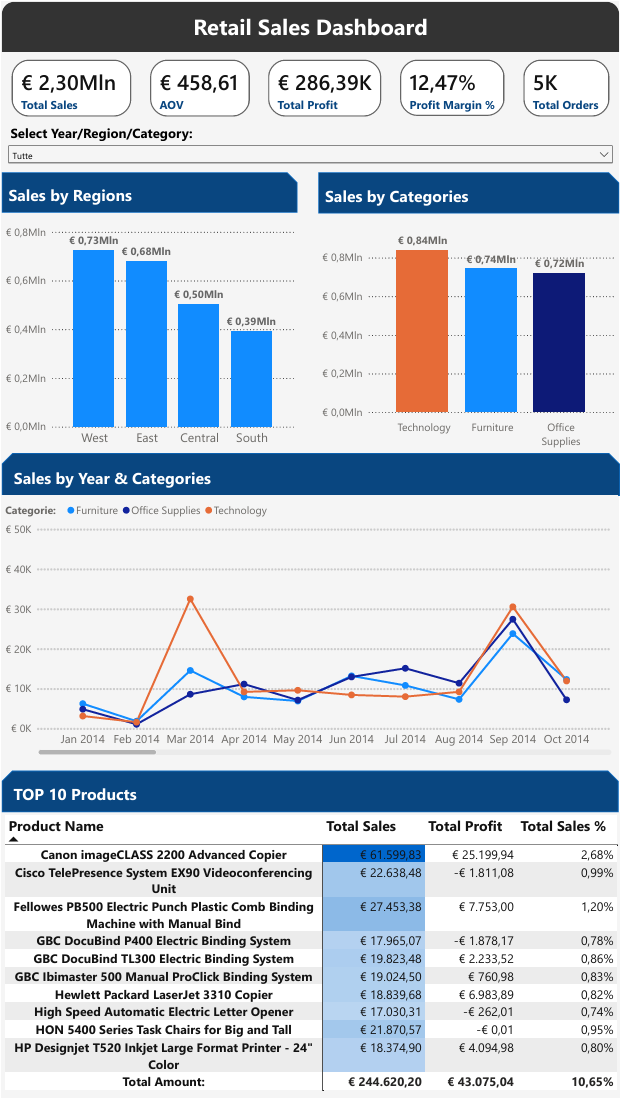

What the dashboard file says about the page in this screenshot:
{"tool":"powerbi","page":{"name":"Retail Sales Dashboard","canvas":[936,1664],"ordinal":0},"visuals":[{"type":"shape","box":[0,0,936,1664],"z":0},{"type":"shape","title":"Vendite per Anno & Categoria","box":[0,685,936.7,65],"z":1000},{"type":"pivotTable","title":"Vendite per Prodotto","fields":{"Rows":["Sales_Clean.product_name"],"Values":["Sales_Clean.Total Sales","Sales_Clean.Total Profit","Sales_Clean.PctOfTotalSales"]},"box":[0,1230,938.3,433.3],"z":2000},{"type":"lineChart","title":"Vendite per anno e categoria","fields":{"Series":["Sales_Clean.category"],"Y":["Sales_Clean.Total Sales"],"Category":["Sales_Clean.MonthYear"]},"box":[0,750,935,398.3],"z":3000},{"type":"columnChart","title":"Vendite per Categoria","fields":{"Category":["Sales_Clean.category"],"Y":["Sales_Clean.Total Sales"]},"box":[480,332.5,456.2,351.2],"z":4000},{"type":"shape","box":[0,1166.7,936,63.3],"z":5000},{"type":"columnChart","title":"Vendite per Regioni","fields":{"Category":["Sales_Clean.region_name"],"Y":["Sales_Clean.Total Sales"]},"box":[0,332.5,447.5,351.2],"z":6000},{"type":"shape","box":[0,258.8,447.5,61.2],"z":7000},{"type":"shape","box":[480,258.8,456.2,62.5],"z":8000},{"type":"cardVisual","fields":{"Data":["Sales_Clean.Total Sales"]},"box":[10,83,191.1,95.6],"z":9000,"group":"g1"},{"type":"slicer","title":"Filter","fields":{"Values":["Sales_Clean.year","Sales_Clean.region_name","Sales_Clean.category","Sales_Clean.segment"]},"box":[0,178.6,935.7,80],"z":12000},{"type":"shape","box":[0,0,936,75.7],"z":13000},{"type":"cardVisual","fields":{"Data":["Sales_Clean.AOV"]},"box":[219.6,83,161,96],"z":14000,"group":"g1"},{"type":"cardVisual","fields":{"Data":["Sales_Clean.Total Profit"]},"box":[399.1,83,181.1,95.6],"z":15000,"group":"g1"},{"type":"cardVisual","fields":{"Data":["Sales_Clean.Total Orders"]},"box":[785.6,83,140,95.6],"z":16000,"group":"g1"},{"type":"cardVisual","fields":{"Data":["Sales_Clean.Profit Margin %"]},"box":[598.7,83,168.3,95],"z":16001,"group":"g1"},{"type":"group","id":"g1","title":"Gruppo 1","box":[10,83,915.6,96],"z":16002}]}

Visuals, with their boxes in screenshot pixels (x1, y1, x2, y2), scaled from the page's 936x1664 canvas onto the 621x1102 screenshot:
shape: bbox(0, 0, 620, 1101)
"Vendite per Anno & Categoria" shape: bbox(0, 454, 620, 497)
"Vendite per Prodotto" pivotTable: bbox(0, 815, 620, 1101)
"Vendite per anno e categoria" lineChart: bbox(0, 497, 620, 760)
"Vendite per Categoria" columnChart: bbox(318, 220, 620, 453)
shape: bbox(0, 773, 620, 815)
"Vendite per Regioni" columnChart: bbox(0, 220, 297, 453)
shape: bbox(0, 171, 297, 212)
shape: bbox(318, 171, 620, 213)
cardVisual - Sales_Clean.Total Sales: bbox(7, 55, 133, 118)
"Filter" slicer: bbox(0, 118, 620, 171)
shape: bbox(0, 0, 620, 50)
cardVisual - Sales_Clean.AOV: bbox(146, 55, 253, 119)
cardVisual - Sales_Clean.Total Profit: bbox(265, 55, 385, 118)
cardVisual - Sales_Clean.Total Orders: bbox(521, 55, 614, 118)
cardVisual - Sales_Clean.Profit Margin %: bbox(397, 55, 509, 118)
"Gruppo 1" group: bbox(7, 55, 614, 119)
